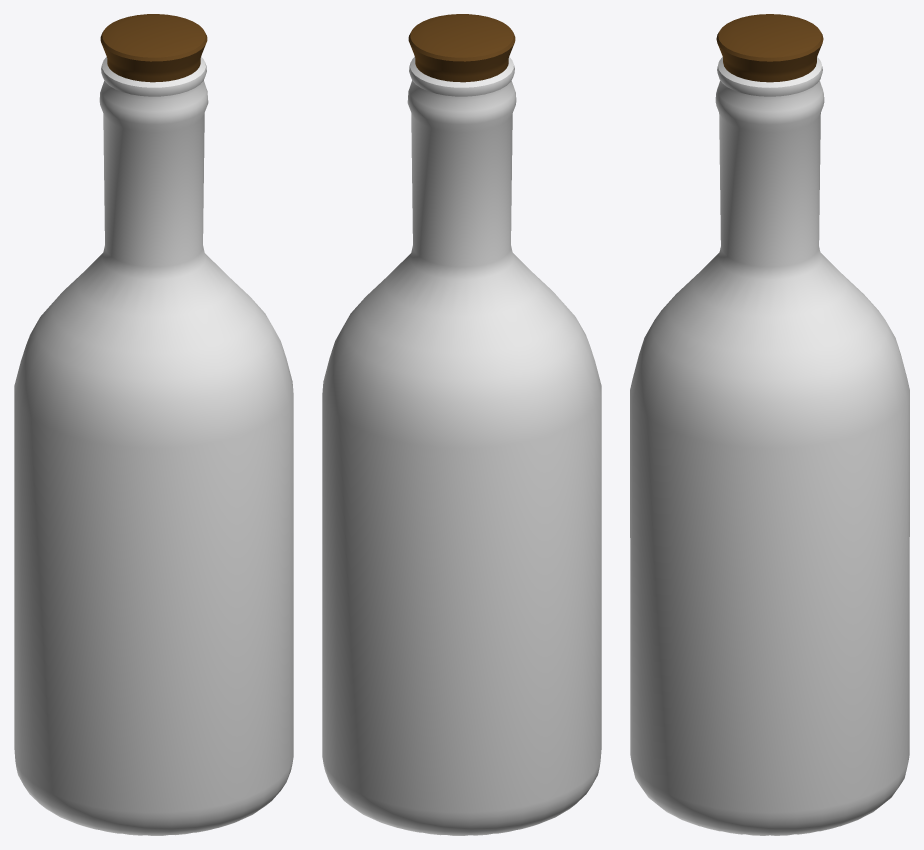
Rendered from wiado w butelce.fbx.
3 views of the same model, side by side, from view 1: azimuth 30°, elevation 25°; view 2: azimuth 150°, elevation 25°; view 3: azimuth 270°, elevation 25° (orthographic).
Visible parts, largest first — view 1: Cylinder, Cylinder.001; view 2: Cylinder, Cylinder.001; view 3: Cylinder, Cylinder.001.
Part boxes in pixels (x1,y1,x2,y2): Cylinder: [14, 57, 293, 835]; Cylinder.001: [100, 14, 207, 82]; Cylinder: [322, 57, 601, 835]; Cylinder.001: [408, 14, 515, 82]; Cylinder: [630, 57, 909, 835]; Cylinder.001: [716, 14, 823, 82].
Bounding box in the file's own units: 200 × 596 × 200.
